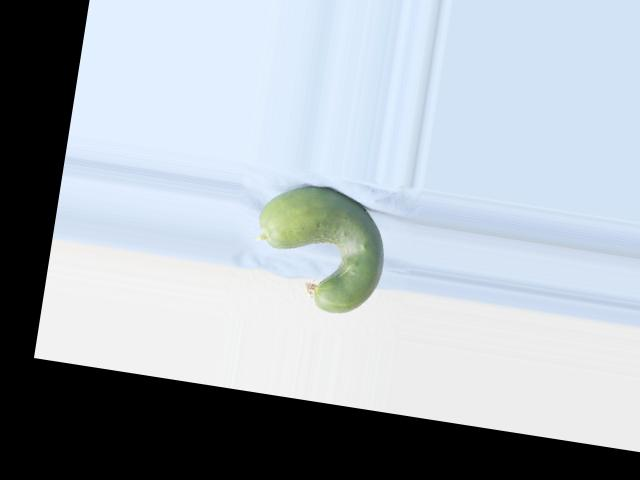cucumber: (246, 178, 393, 319)
